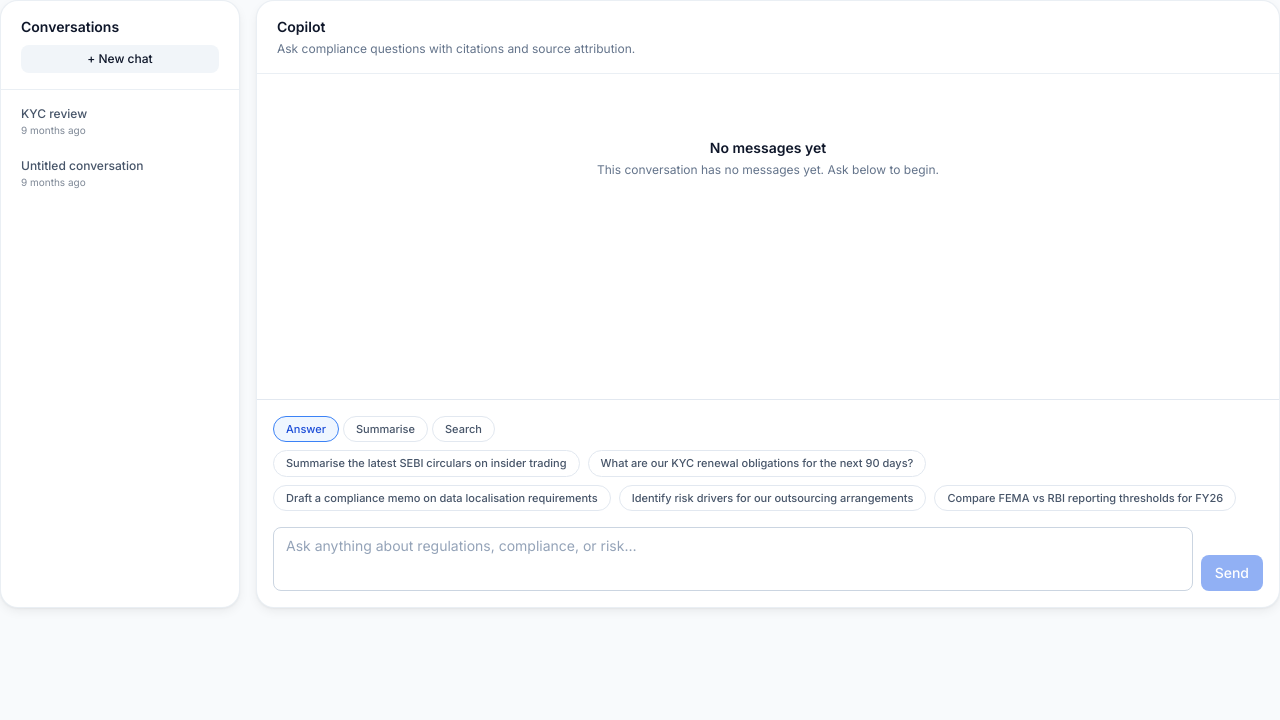
Test: answers, citations, signals › 13+14. citations object renders numbered references with metadata
Type "What are KYC obligations?" into the text box named "Copilot prompt" at (733,559), box [273,527,1193,591]
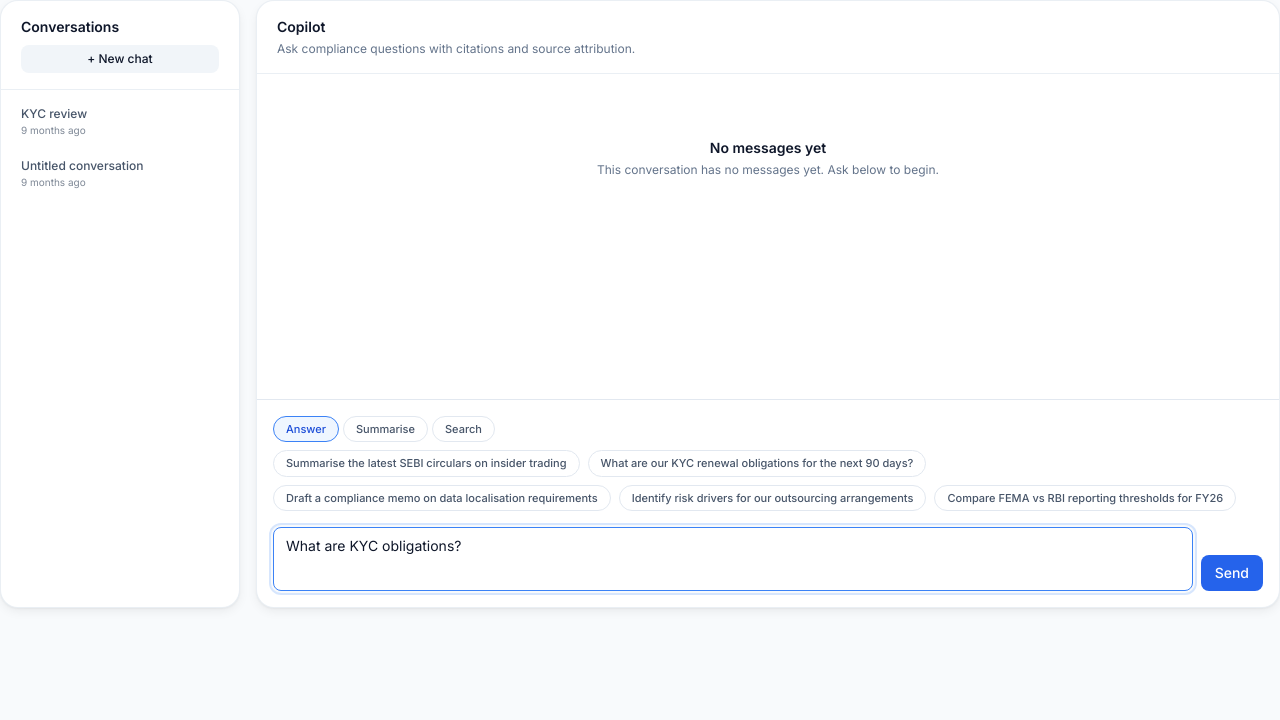
Click the button "Send" at (1232,573), box [1201,555,1263,591]
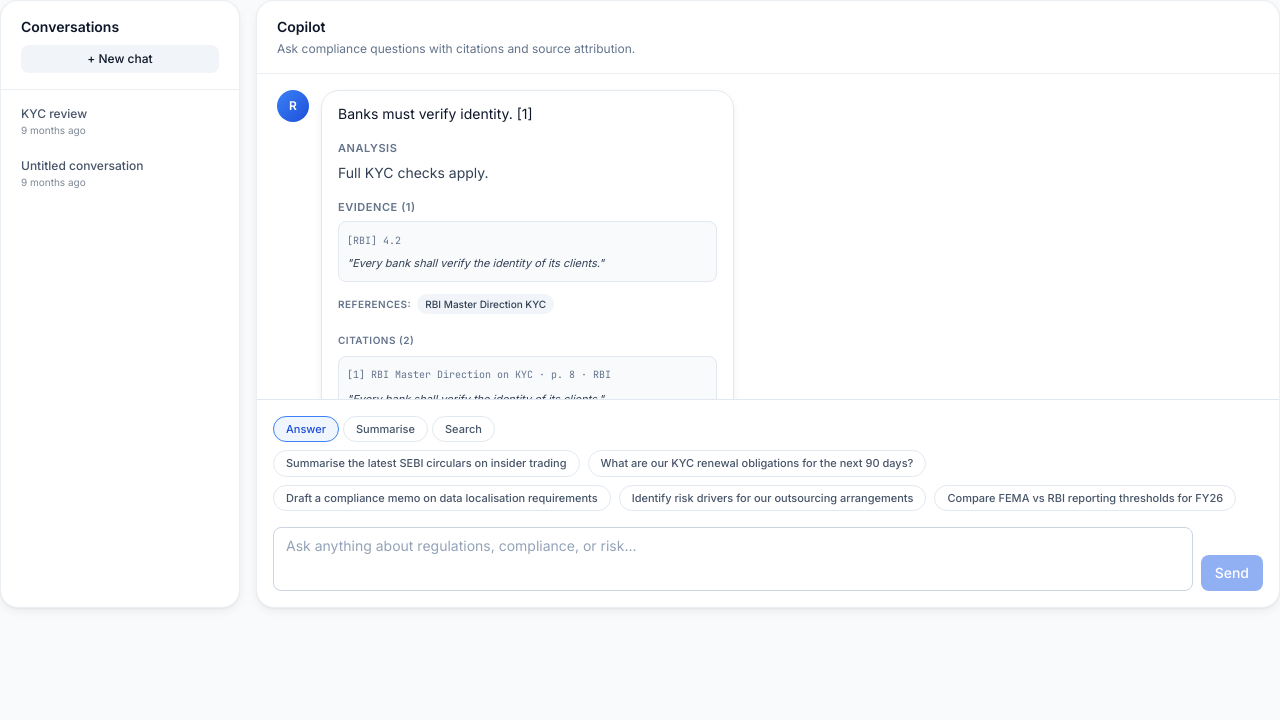
Expected: the text "Citations (2)" is shown, [338,334,414,346]
Expected: the text "[1] RBI Master Direction on KYC · p. 8 · RBI" is shown, [347,368,611,380]
